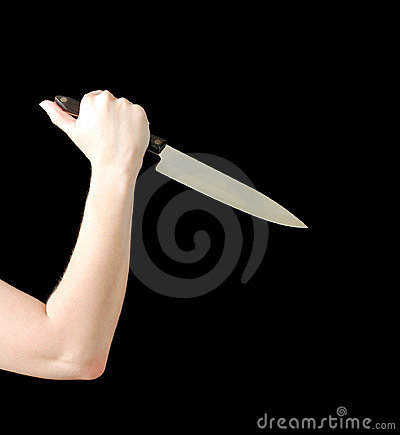knife: (112, 90, 318, 232)
